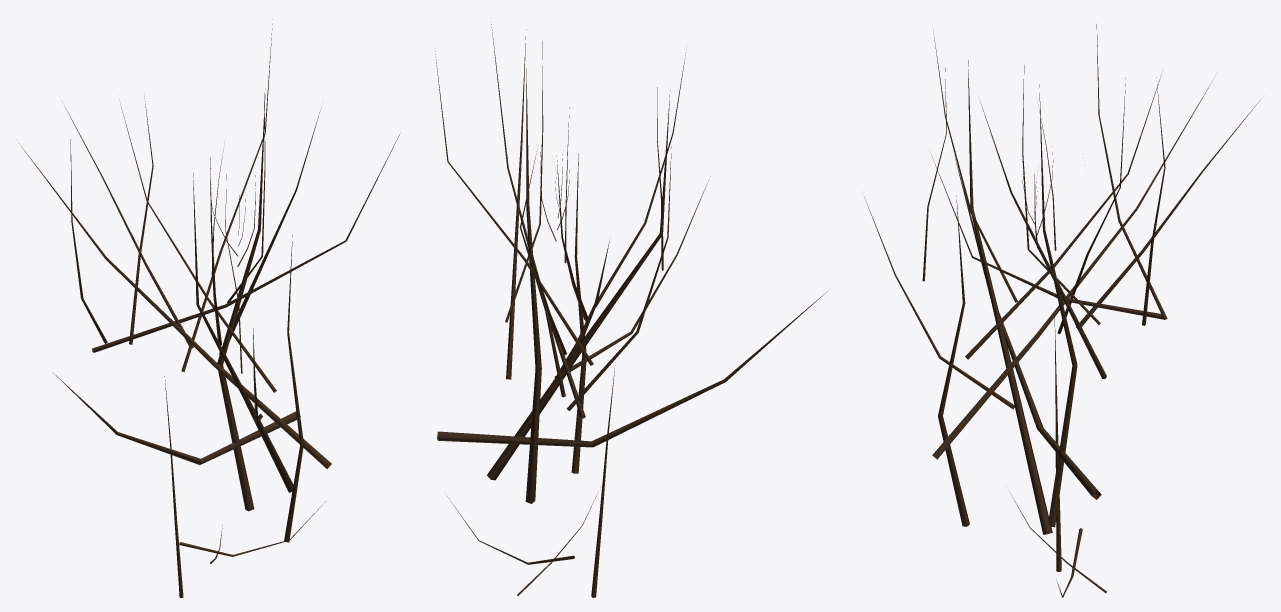
The model's file is bush-tree-002-lod1.glb.
3 views of the same model, side by side, from view 1: azimuth 30°, elevation 25°; view 2: azimuth 150°, elevation 25°; view 3: azimuth 270°, elevation 25° (orthographic). The views are drawn at different scales.
Visible parts, largest first — view 1: v_tree.002; view 2: v_tree.002; view 3: v_tree.002.
Part boxes in pixels (x1,y1,x2,y2): v_tree.002: (19,19,399,597); v_tree.002: (434,21,827,597); v_tree.002: (864,24,1261,597).
Bounding box in the file's own units: 3.14 × 4.63 × 3.02.
